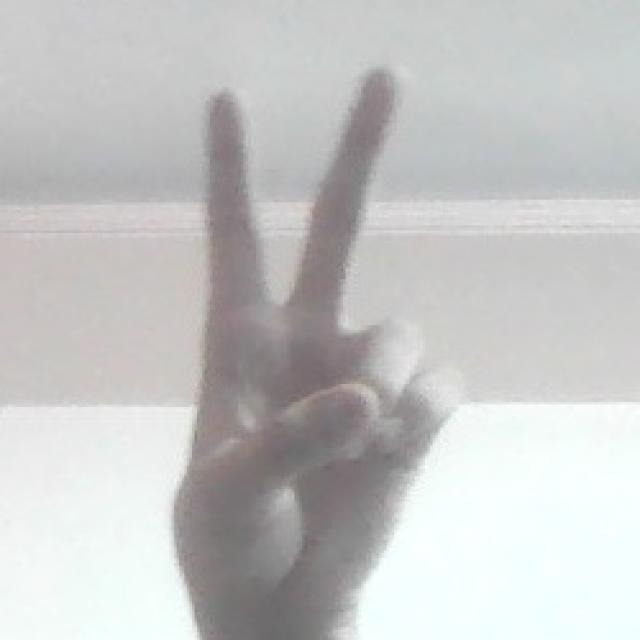Numeric-2: (182, 64, 470, 580)
